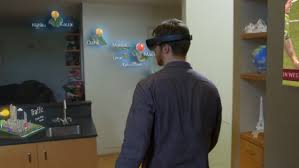hololens: (144, 34, 194, 51)
